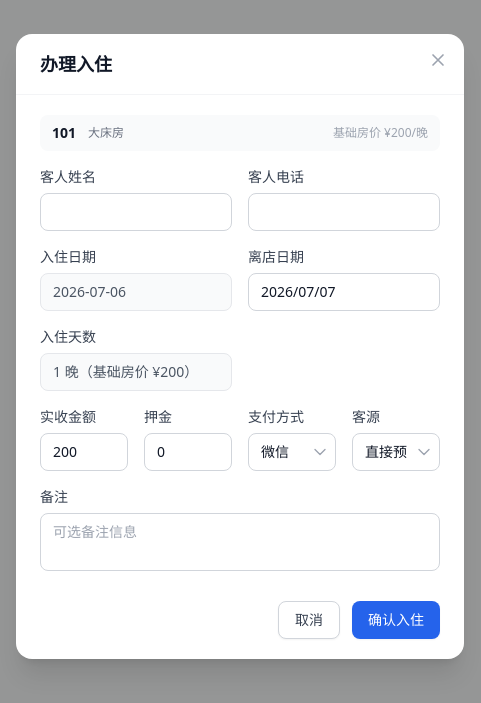
Scenario: CheckInDialog › shows error message when save fails
Type "张三" into the field labelled "客人姓名".
click(136, 212); type("张三")  # box left=40, top=192, right=232, bottom=230
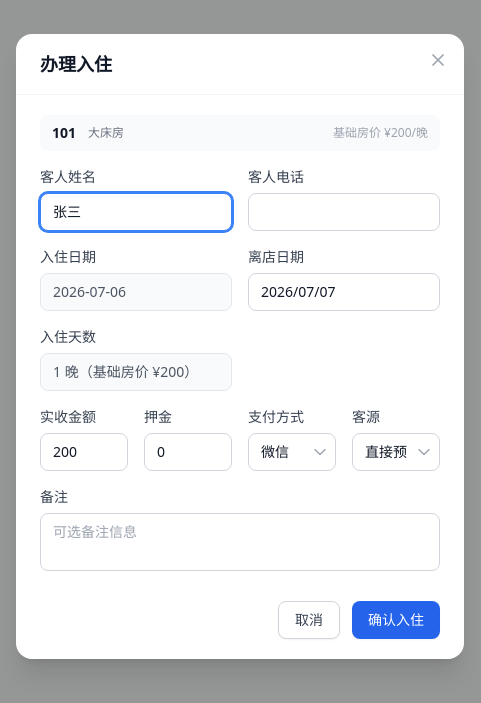
Click the button "确认入住".
click(396, 620)  # box left=352, top=600, right=440, bottom=638
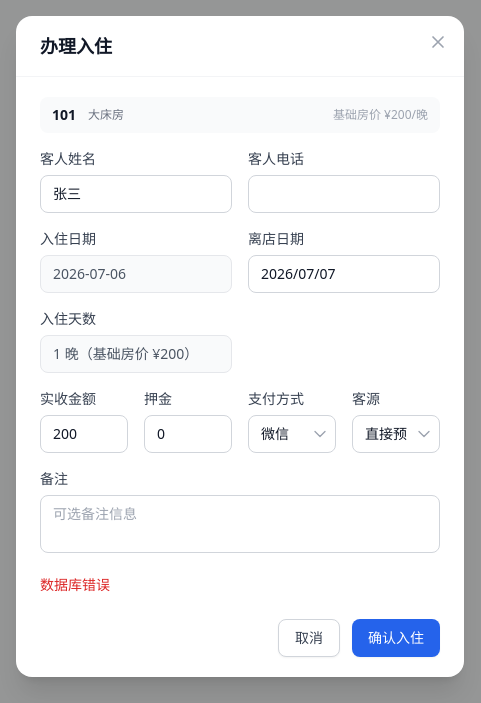
Expected: the text "数据库错误" is shown, left=40, top=574, right=110, bottom=594
